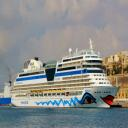cruises: (11, 38, 122, 112)
